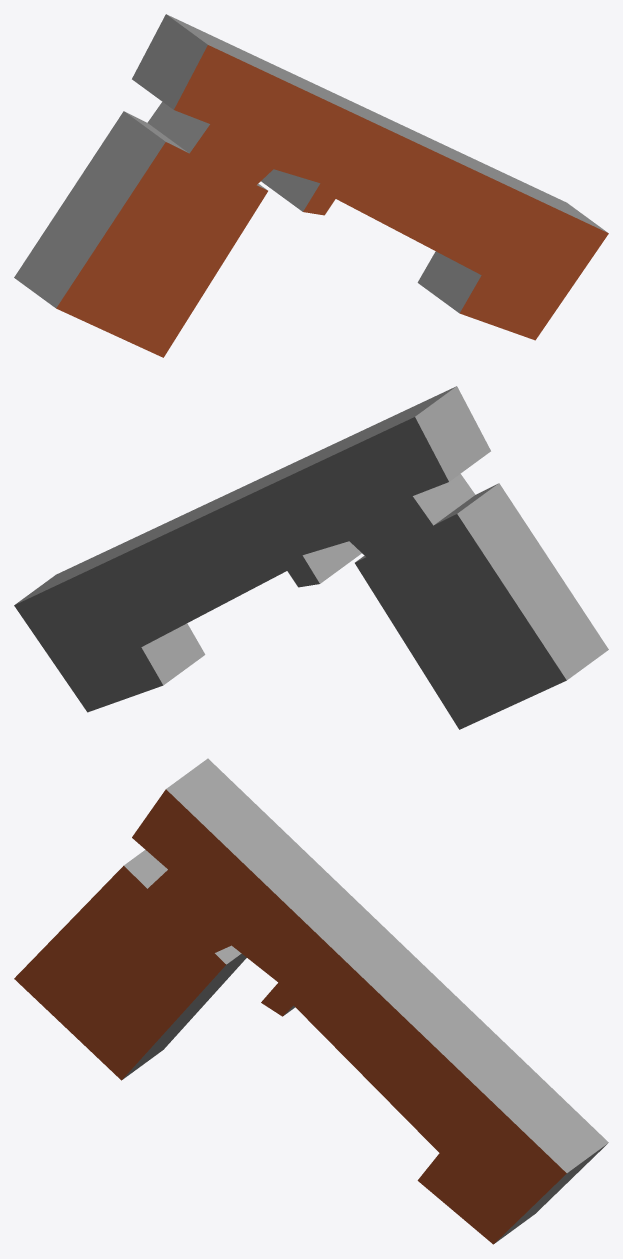
Rendered from construction_3449_assumed_A_Casa_h6m.obj.
3 renders of one model, top to bottom at view 1: azimuth 30°, elevation 25°; view 2: azimuth 150°, elevation 25°; view 3: azimuth 330°, elevation 25°, orthographic.
Parts seen in each view (by area): view 1: construction_3449_assumed_A_Casa; view 2: construction_3449_assumed_A_Casa; view 3: construction_3449_assumed_A_Casa.
Part boxes in pixels (<box>): construction_3449_assumed_A_Casa: <box>14,14,608,357</box>; construction_3449_assumed_A_Casa: <box>14,386,608,729</box>; construction_3449_assumed_A_Casa: <box>14,758,608,1244</box>.
Size of the model in its own units: 45.51 by 29.55 by 6.
